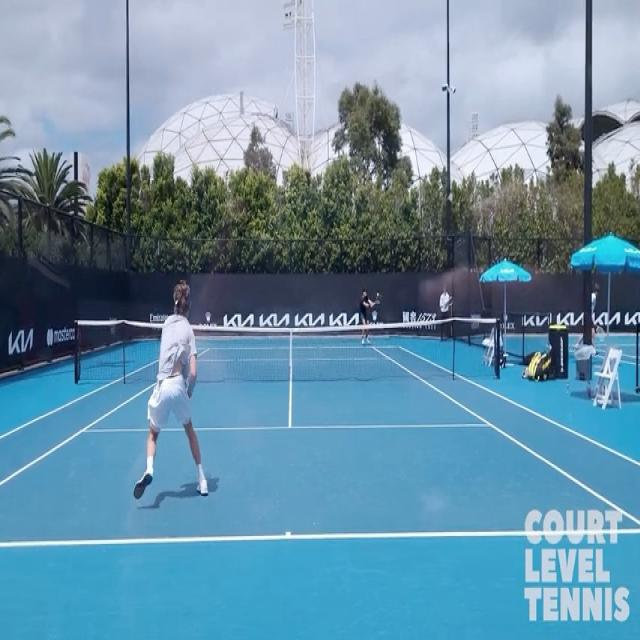ready-position: (132, 265, 215, 514)
